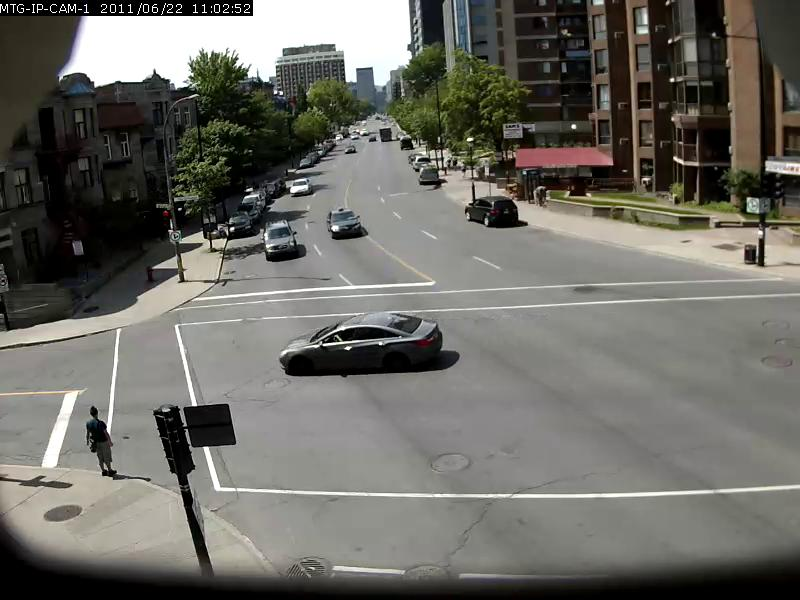Car: (280, 309, 445, 375), (465, 194, 519, 226), (262, 219, 297, 259), (326, 208, 362, 238), (290, 178, 311, 194), (344, 144, 356, 154)
